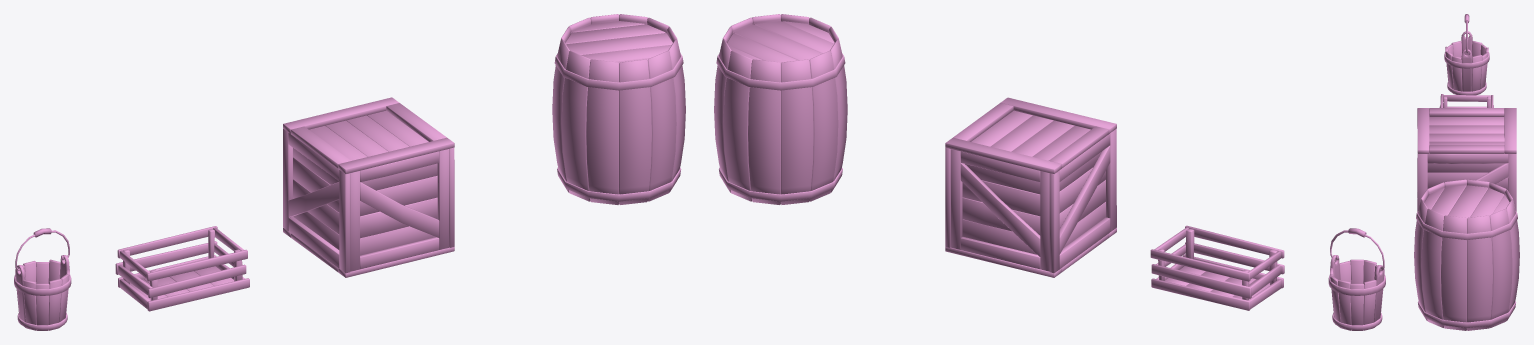
File: DungeonProps02.fbx
3 views of the same model, side by side, from view 1: azimuth 30°, elevation 25°; view 2: azimuth 150°, elevation 25°; view 3: azimuth 270°, elevation 25° (orthographic). The views are drawn at different scales.
Parts seen in each view (by area): view 1: Crate02_Geo, Barrel_Geo, Crate01_Geo, Bucket_Geo, Barrel_Top_Geo; view 2: Crate02_Geo, Barrel_Geo, Crate01_Geo, Bucket_Geo, Barrel_Top_Geo; view 3: Barrel_Geo, Crate02_Geo, Bucket_Geo, Barrel_Top_Geo, Crate01_Geo, Bucket_Handle_Geo.
Part boxes in pixels (box(x1,y1,x2,y2)): Crate02_Geo: box(283, 97, 454, 277); Barrel_Geo: box(552, 14, 685, 204); Crate01_Geo: box(115, 226, 249, 311); Bucket_Geo: box(14, 255, 71, 330); Barrel_Top_Geo: box(565, 21, 672, 63); Crate02_Geo: box(945, 97, 1116, 277); Barrel_Geo: box(714, 14, 847, 204); Crate01_Geo: box(1150, 225, 1284, 310); Bucket_Geo: box(1328, 255, 1385, 330); Barrel_Top_Geo: box(727, 21, 834, 63); Barrel_Geo: box(1414, 179, 1519, 330); Crate02_Geo: box(1417, 108, 1516, 211); Bucket_Geo: box(1444, 31, 1489, 95); Barrel_Top_Geo: box(1424, 185, 1509, 218); Crate01_Geo: box(1439, 94, 1493, 107); Bucket_Handle_Geo: box(1464, 14, 1469, 53).
Size of what is drawn, in the model's own units: 5.59 by 1.15 by 0.9782.
